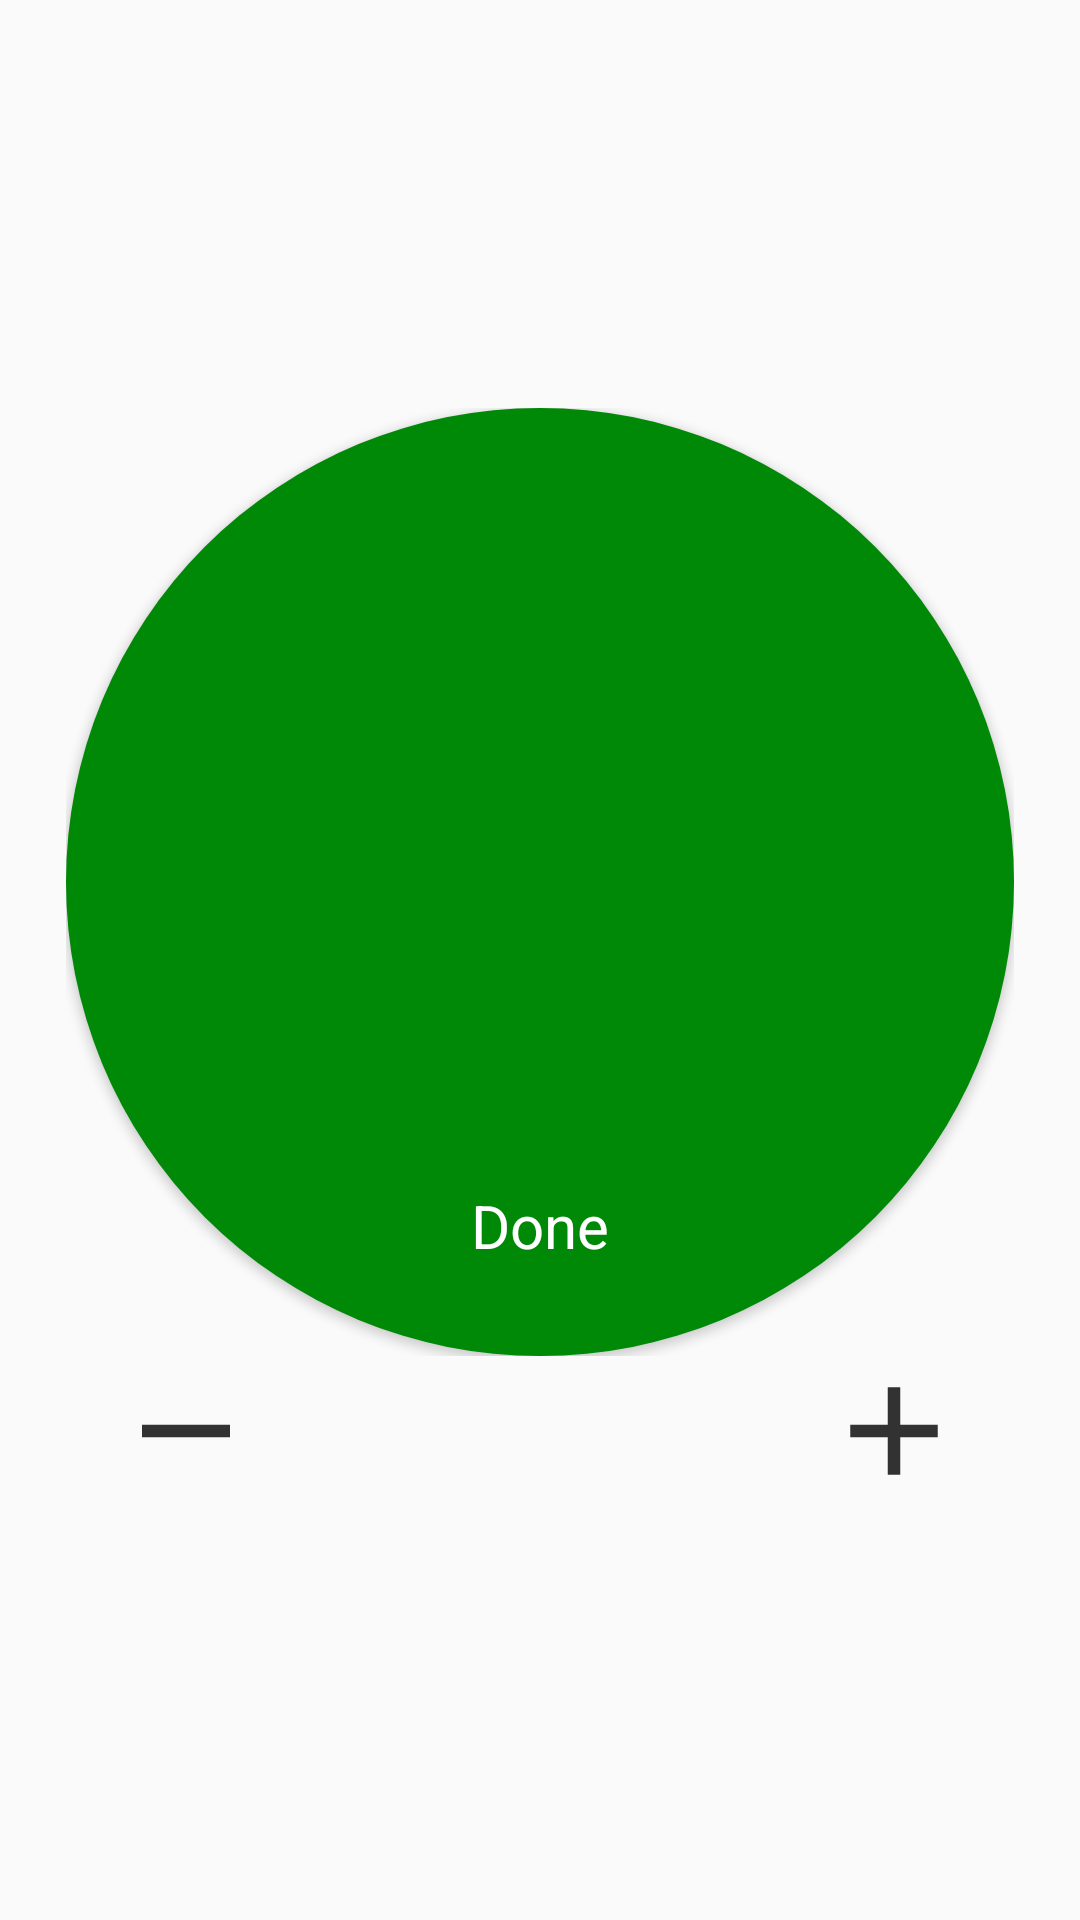

Icons on this 1080*1920 Android screen, each with its box as (x1, y1, x2, y2):
plus: (850, 1387, 938, 1475)
